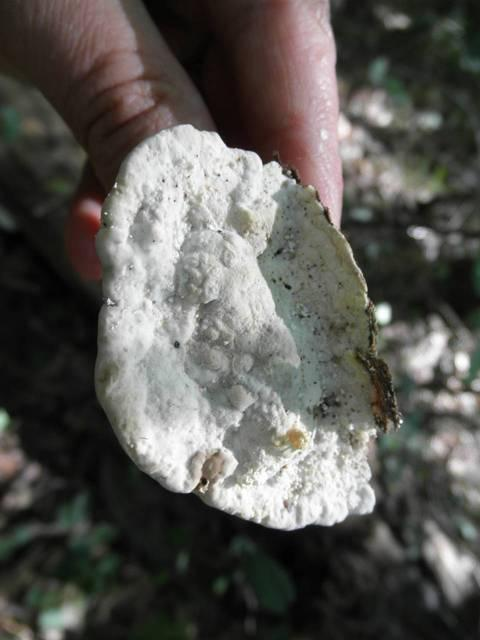Non-edible Mushroom: (90, 122, 403, 532)
